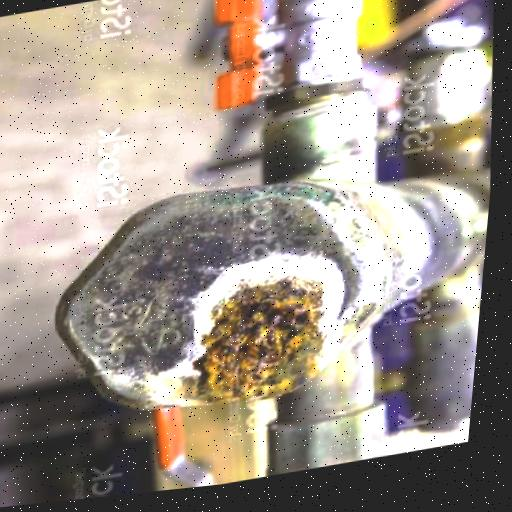corrosion: (190, 262, 339, 415)
